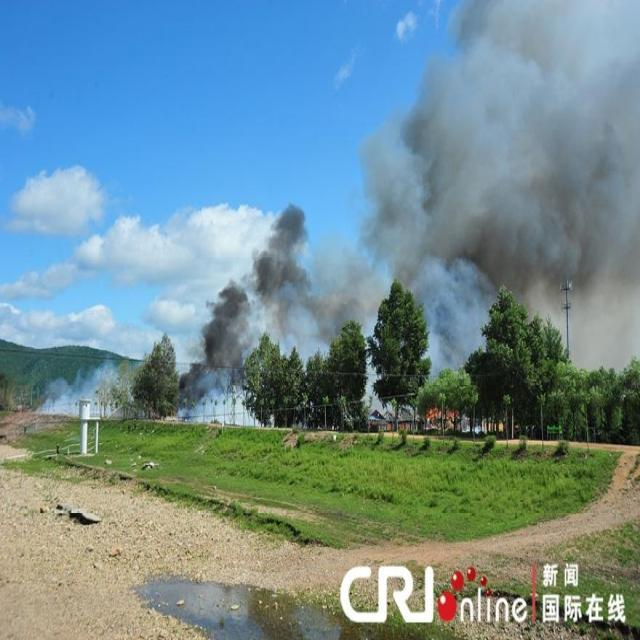Smoke: (179, 1, 640, 436), (34, 358, 134, 420)
